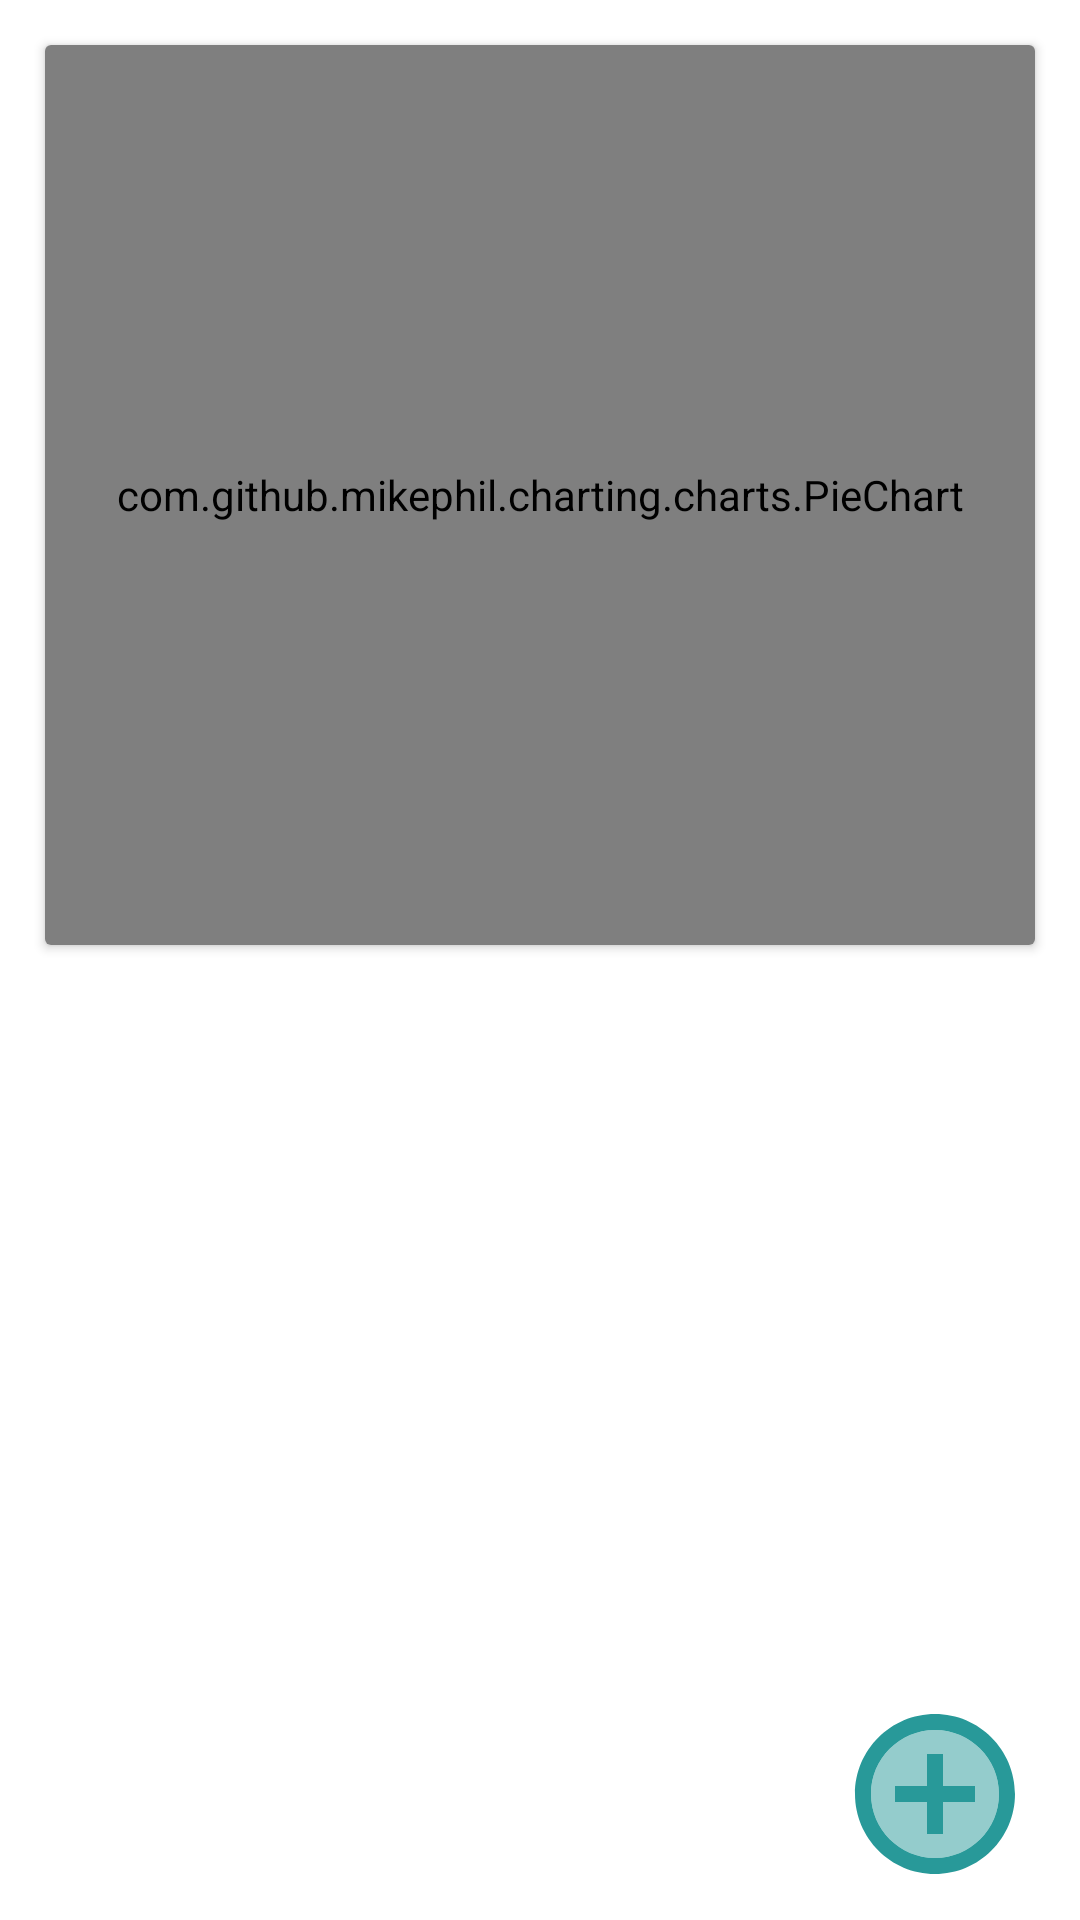

Icon bounding boxes for this 1080*1920 phone screenshot, format (x1,y1,x2,y2):
add view: (855,1714,1015,1874)
